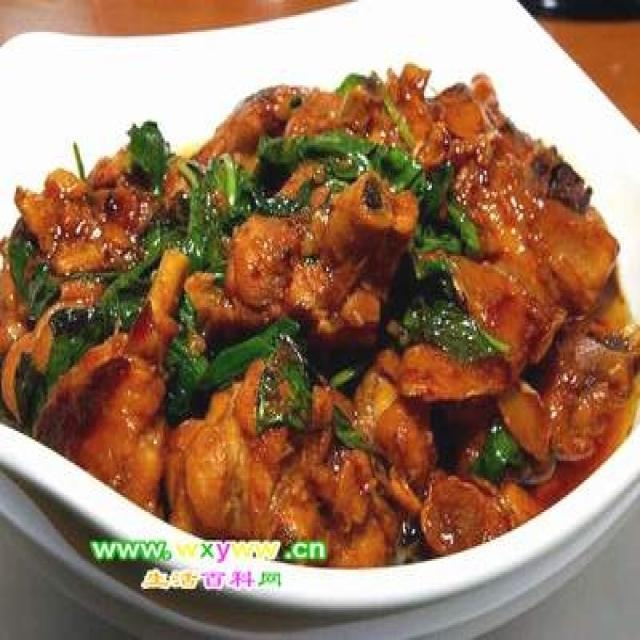鸡肉料理 含炸鸡: (25, 36, 626, 589)
